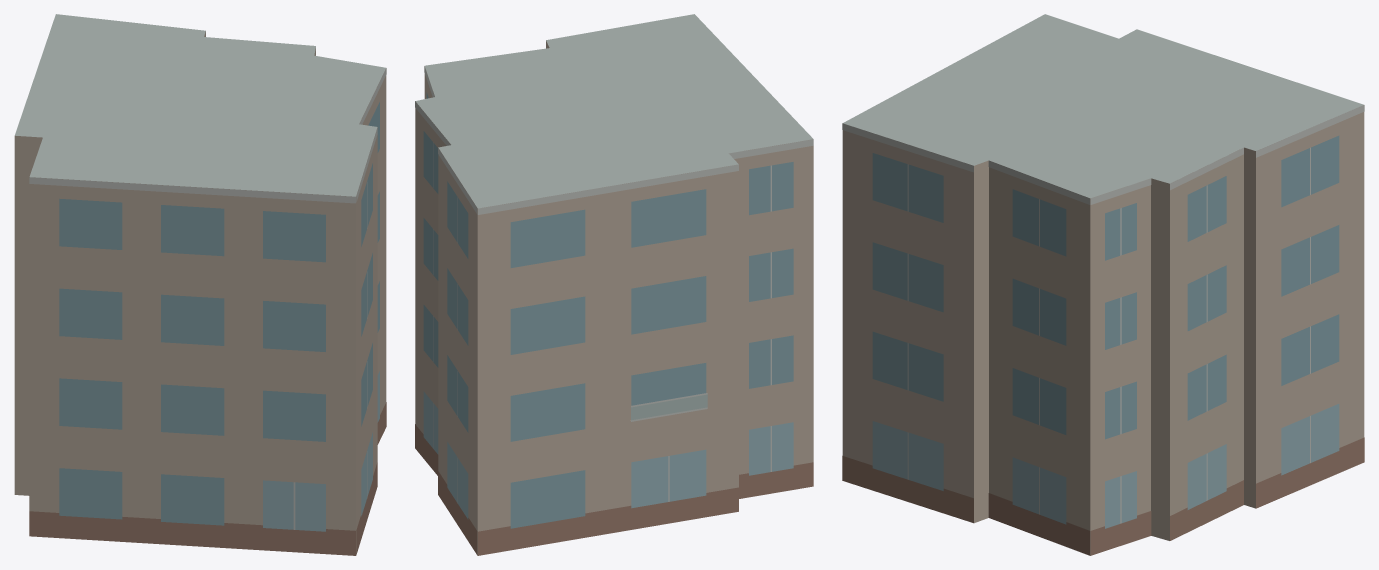
Rendered from survey-upis-32812897.glb.
3 renders of one model, left to right at view 1: azimuth 30°, elevation 25°; view 2: azimuth 150°, elevation 25°; view 3: azimuth 270°, elevation 25°, orthographic. The views are drawn at different scales.
Visible parts, largest first — view 1: survey-upis-32812897.tmp; view 2: survey-upis-32812897.tmp; view 3: survey-upis-32812897.tmp.
Boxes of the visible parts, x1,y1,x2,y2 form: survey-upis-32812897.tmp: (14, 14, 386, 555); survey-upis-32812897.tmp: (415, 14, 813, 555); survey-upis-32812897.tmp: (842, 14, 1364, 555).
Bounding box in the file's own units: 14.28 × 12.9 × 17.08.
